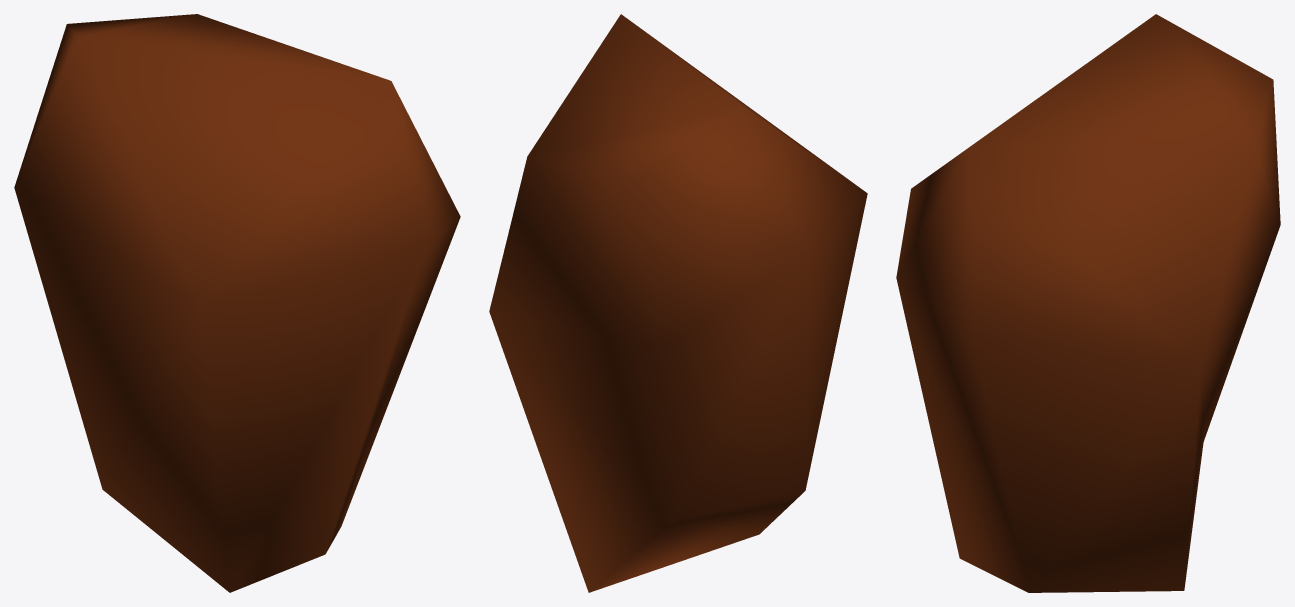
The model's file is FM_M_Well_Stone_06.fbx.
3 views of the same model, side by side, from view 1: azimuth 30°, elevation 25°; view 2: azimuth 150°, elevation 25°; view 3: azimuth 270°, elevation 25° (orthographic).
Visible parts, largest first — view 1: FM_M_Well_Stone_06; view 2: FM_M_Well_Stone_06; view 3: FM_M_Well_Stone_06.
Boxes of the visible parts, x1=… form: FM_M_Well_Stone_06: x1=14, y1=14, x2=460, y2=592; FM_M_Well_Stone_06: x1=489, y1=14, x2=867, y2=592; FM_M_Well_Stone_06: x1=896, y1=14, x2=1280, y2=592.
Bounding box in the file's own units: 0.2719 × 0.3781 × 0.2592.
